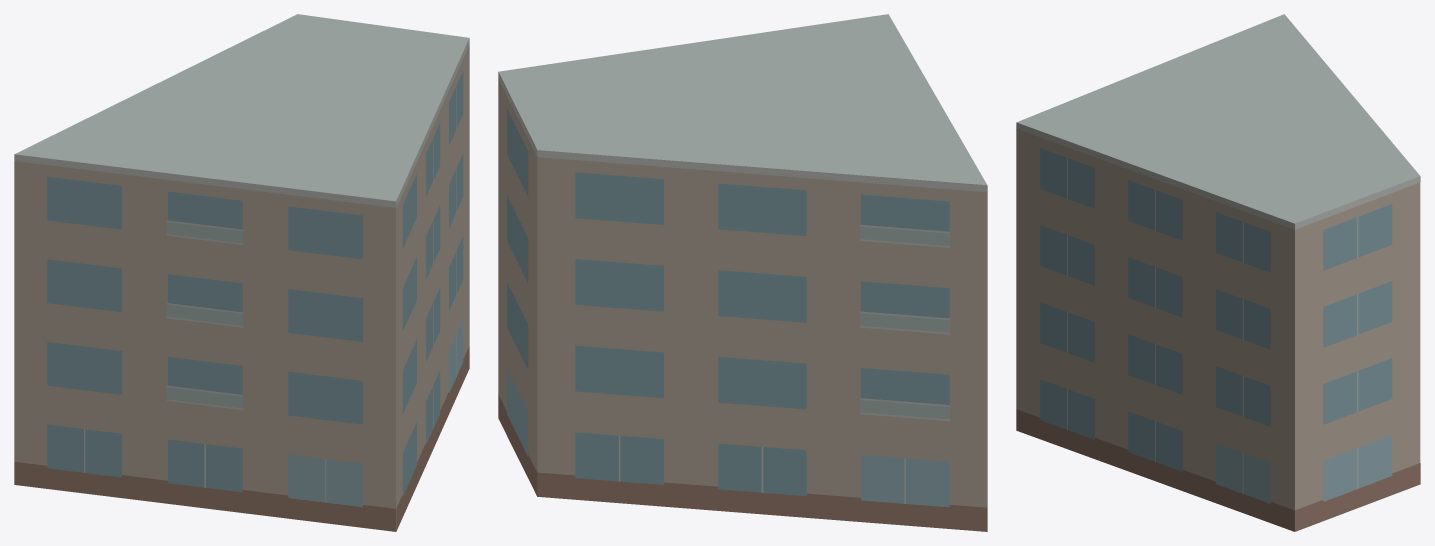
The model's file is survey-upis-32582905.glb.
3 views of the same model, side by side, from view 1: azimuth 30°, elevation 25°; view 2: azimuth 150°, elevation 25°; view 3: azimuth 270°, elevation 25° (orthographic). The views are drawn at different scales.
Visible parts, largest first — view 1: survey-upis-32582905.tmp; view 2: survey-upis-32582905.tmp; view 3: survey-upis-32582905.tmp.
Part boxes in pixels (bbox=[...]): survey-upis-32582905.tmp: bbox=[14, 14, 469, 531]; survey-upis-32582905.tmp: bbox=[498, 14, 987, 531]; survey-upis-32582905.tmp: bbox=[1016, 14, 1420, 531].
Size of the model in its own units: 17.73 by 12.15 by 14.44.
